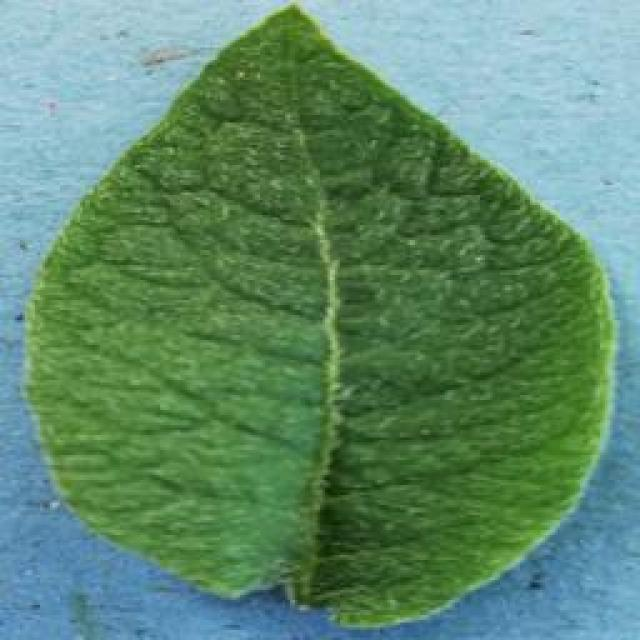Potato_Healthy: (25, 1, 610, 624)
